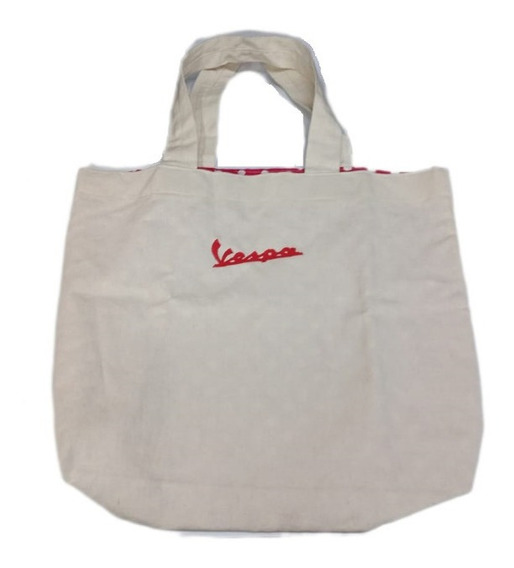cartera: (53, 29, 484, 536)
